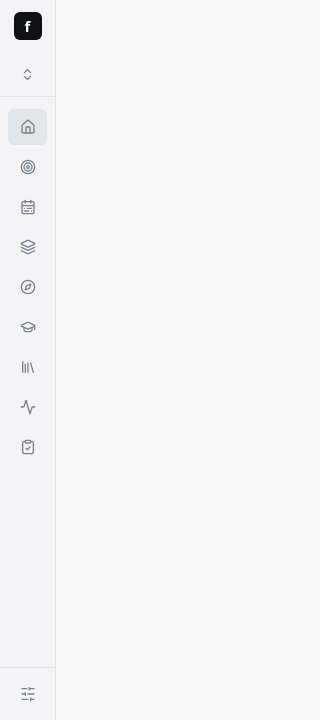
Scenario: AppSidebar — ürün navigasyonu › daraltılmış ray modunda katlanır alana tıklayınca flyout menü açılır
Click the button named "Plan".
click(28, 207)  # box [8,191,47,223]
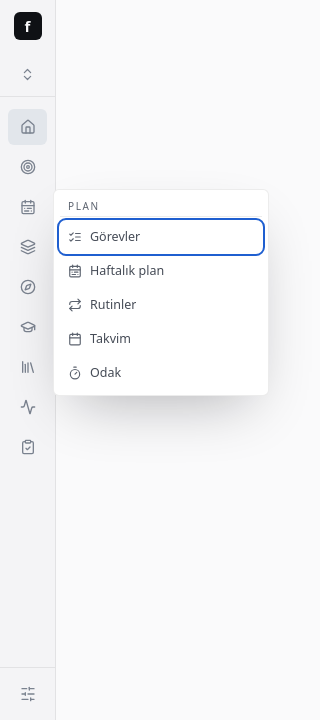
Result: the menu named "Plan menüsü" is shown at [53,189,269,396]
Result: the menu item "Görevler" is shown at [68,228,140,245]
Result: the menu item "Haftalık plan" is shown at [68,262,164,279]
